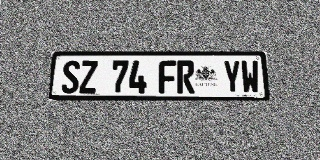4: (129, 60, 146, 93)
7: (110, 61, 129, 93)
F: (159, 60, 176, 93)
R: (177, 60, 195, 93)
S: (61, 61, 80, 93)
W: (240, 60, 260, 94)
Y: (223, 60, 241, 94)
Z: (79, 61, 98, 93)
